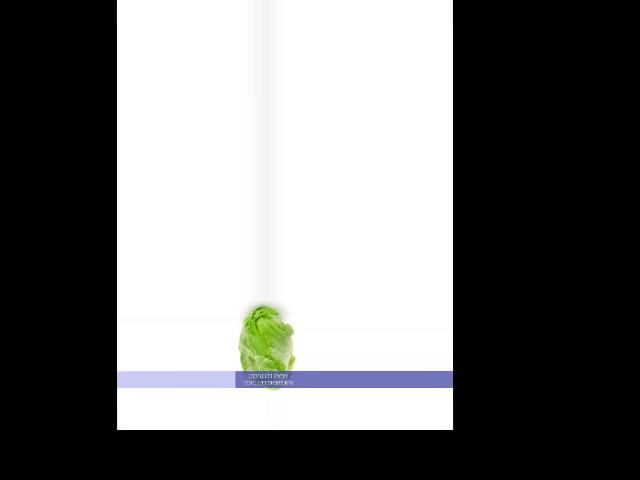lettuce: (240, 302, 295, 390)
